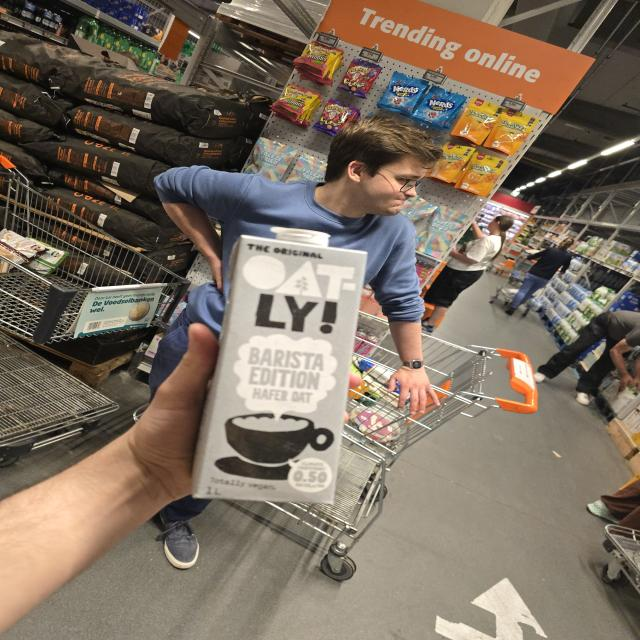Milk: (190, 227, 365, 506)
